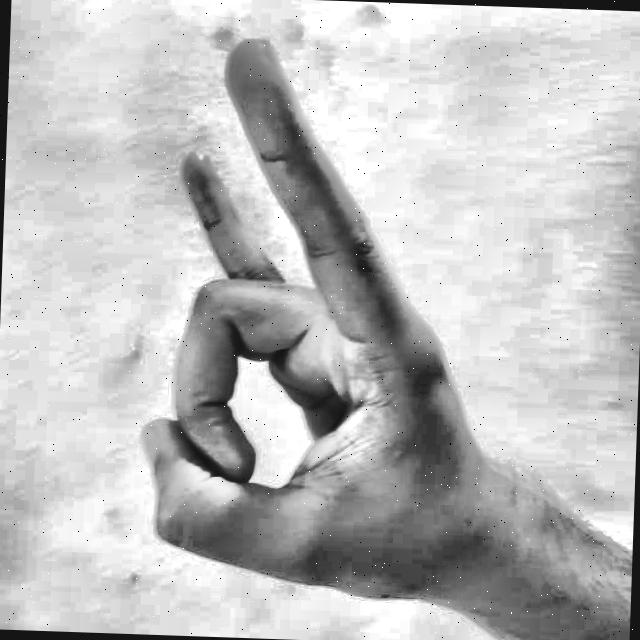Cha: (102, 19, 515, 640)
